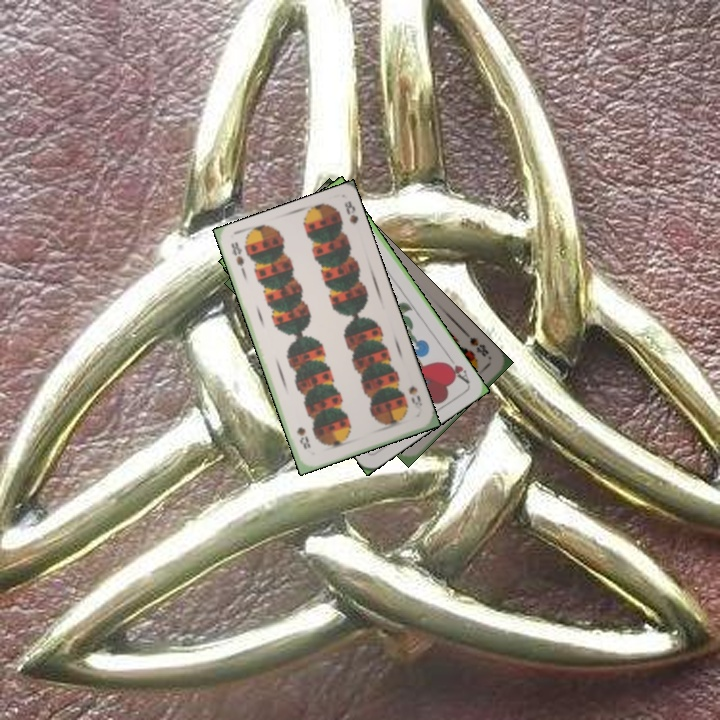HA: (441, 350, 472, 386)
S8: (462, 329, 491, 360), (227, 238, 248, 278), (404, 382, 425, 415)
